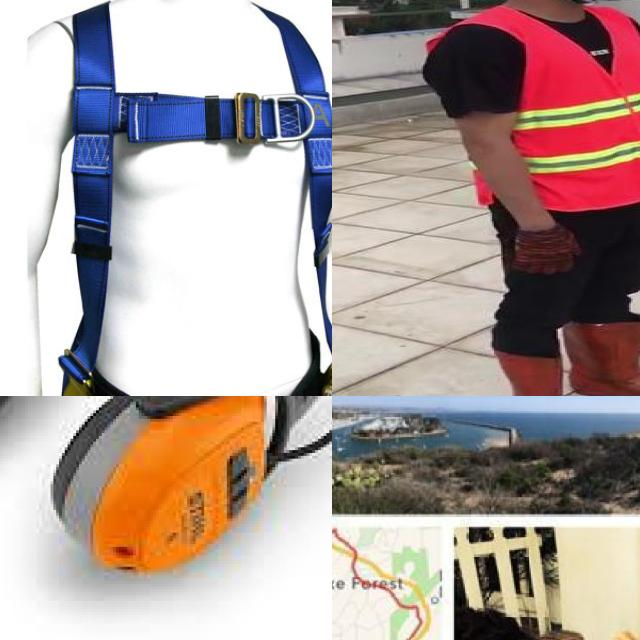Ear-protection: (0, 396, 332, 545)
Harness: (47, 0, 332, 396)
boots: (490, 350, 621, 396), (561, 321, 640, 396)
hand_glove: (510, 227, 583, 275)
hand_noglove: (607, 627, 640, 640)
head_nohelmet: (447, 603, 551, 640)
person: (398, 0, 640, 396)
vest: (410, 9, 640, 208)
